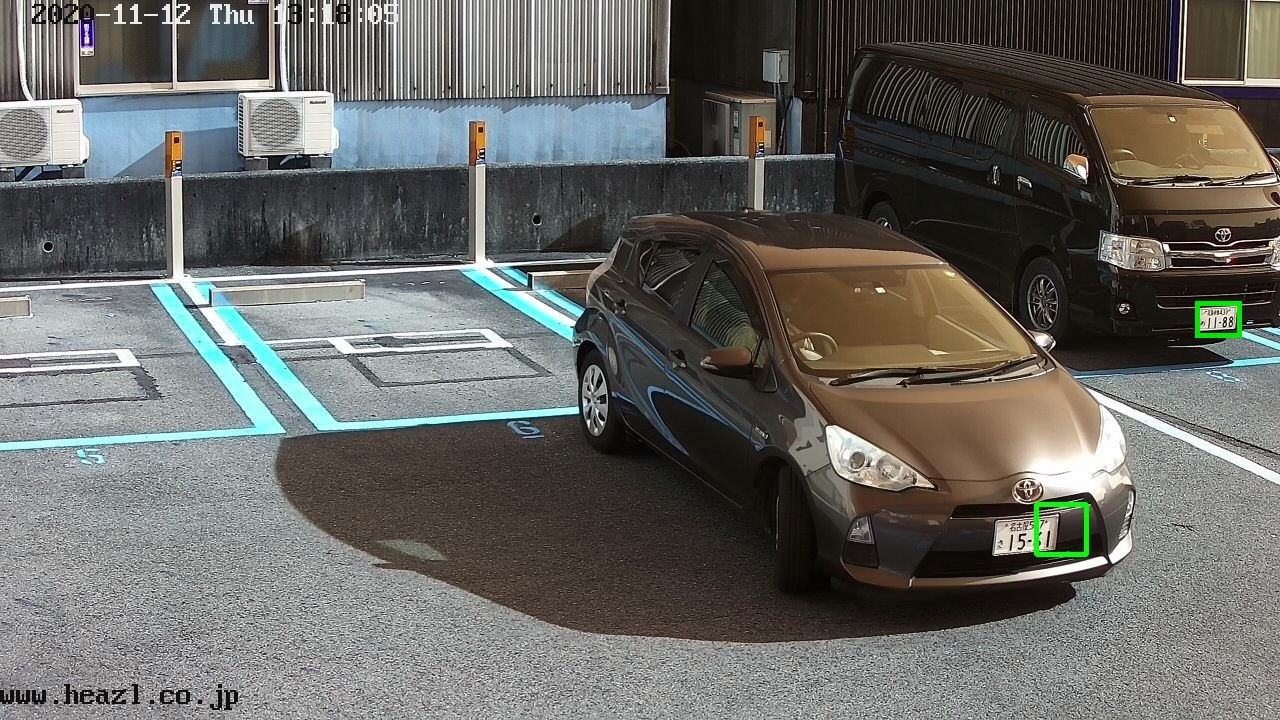number_plate: (996, 517, 1060, 552), (1201, 304, 1240, 333)
